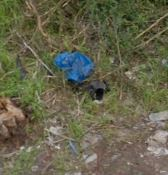trash: (47, 46, 114, 103)
